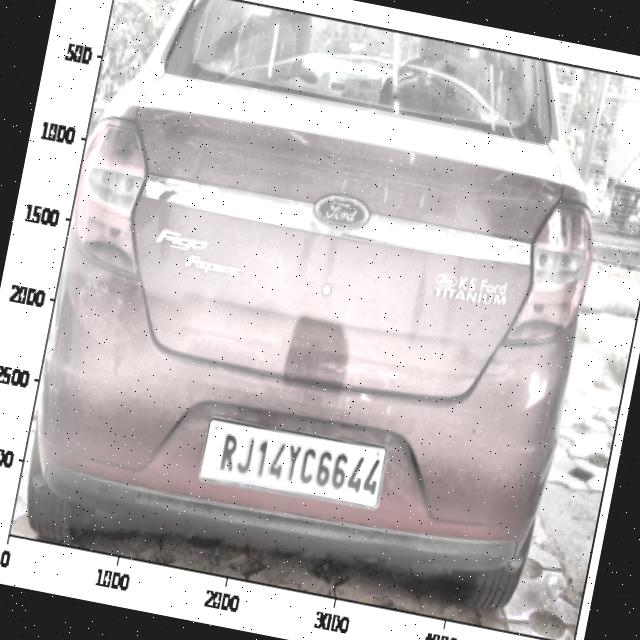license_plate: (208, 420, 388, 509)
